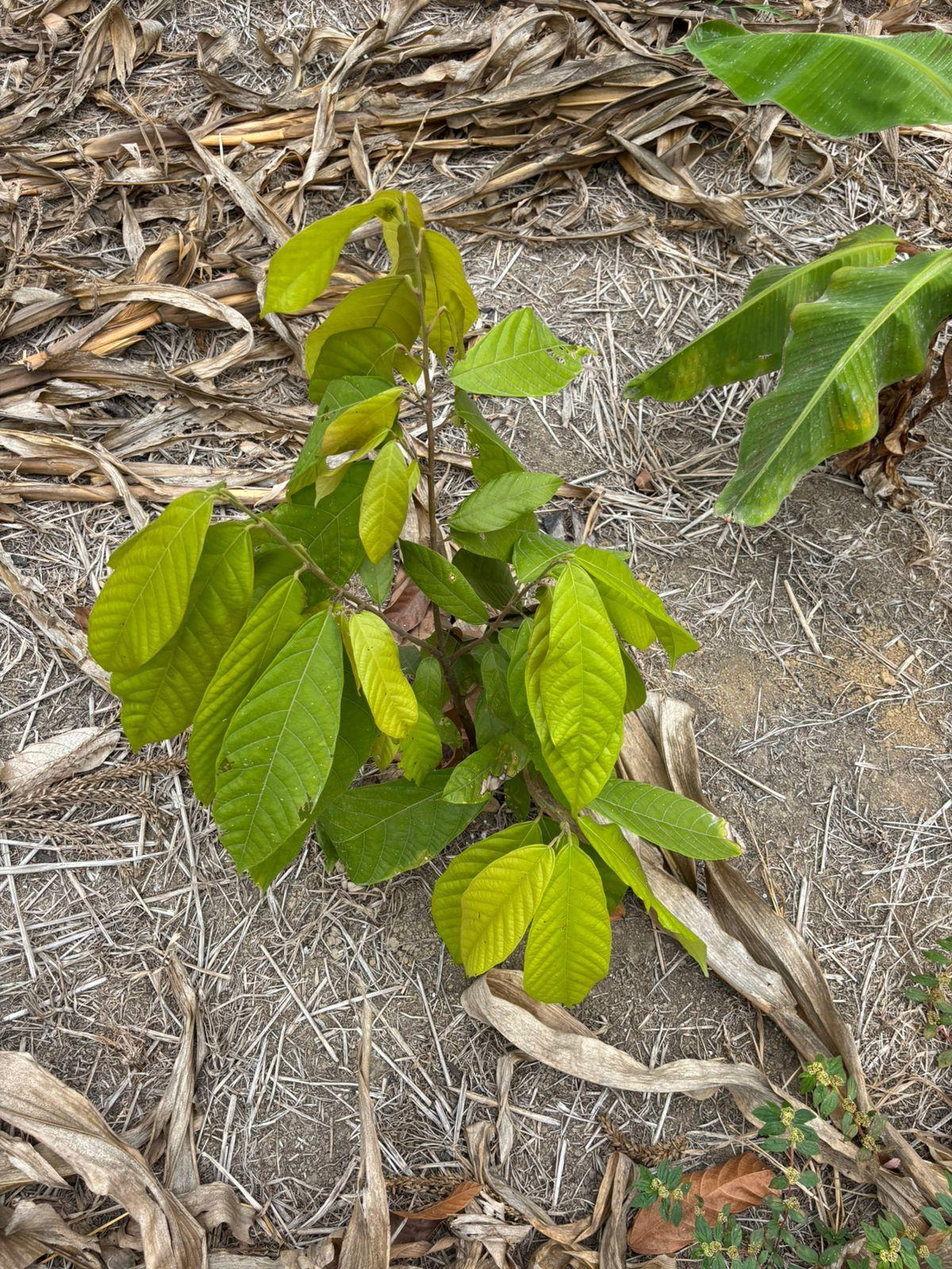deficiencia_nitrogeno: (88, 493, 209, 670), (460, 844, 555, 976), (347, 612, 417, 739)
